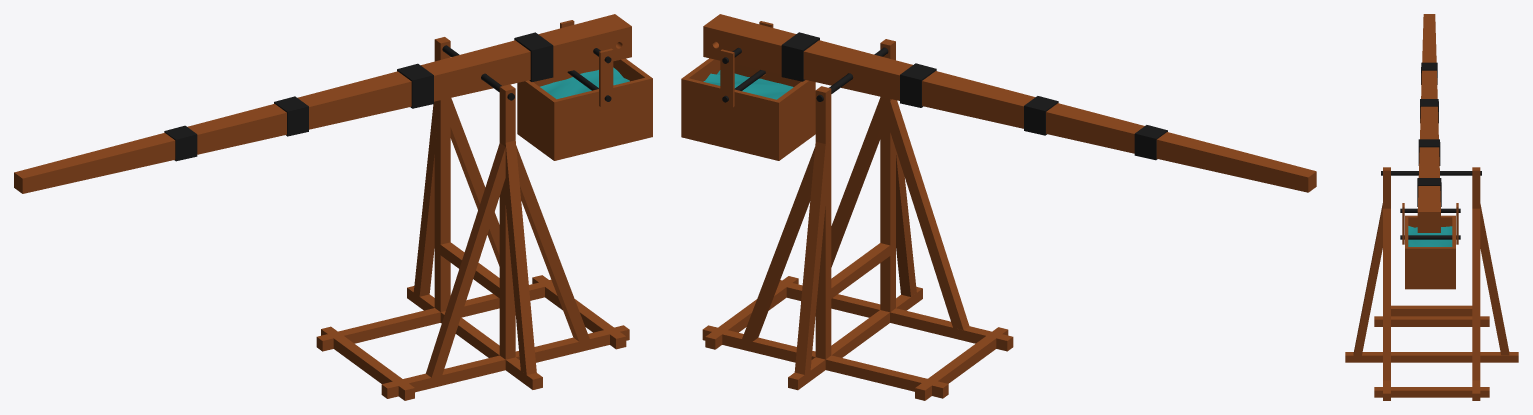
File: catapult.FBX
3 renders of one model, left to right at view 1: azimuth 30°, elevation 25°; view 2: azimuth 150°, elevation 25°; view 3: azimuth 270°, elevation 25°, orthographic. The views are drawn at different scales.
Visible parts, largest first — view 1: Quader006, Quader007, Quader008, Ebene001, Quader010; view 2: Quader006, Quader007, Quader008, Ebene001, Quader010; view 3: Quader006, Quader007, Quader008, Ebene001, Zylinder001, Zylinder003, Quader010, Zylinder002.
Boxes of the visible parts, left/top/right/bottom form: Quader006: left=316, top=37, right=629, bottom=400; Quader007: left=14, top=14, right=631, bottom=193; Quader008: left=517, top=58, right=652, bottom=160; Ebene001: left=540, top=67, right=629, bottom=99; Quader010: left=560, top=20, right=613, bottom=106; Quader006: left=702, top=39, right=1013, bottom=400; Quader007: left=703, top=14, right=1316, bottom=192; Quader008: left=681, top=58, right=815, bottom=160; Ebene001: left=703, top=70, right=793, bottom=99; Quader010: left=720, top=21, right=773, bottom=107; Quader006: left=1345, top=167, right=1518, bottom=400; Quader007: left=1417, top=14, right=1441, bottom=232; Quader008: left=1405, top=215, right=1455, bottom=289; Ebene001: left=1408, top=226, right=1452, bottom=246; Zylinder001: left=1381, top=171, right=1481, bottom=175; Zylinder003: left=1400, top=235, right=1460, bottom=239; Quader010: left=1402, top=203, right=1458, bottom=244; Zylinder002: left=1400, top=208, right=1460, bottom=212.
Bounding box in the file's own units: 3.8 × 1.34 × 1.7.
